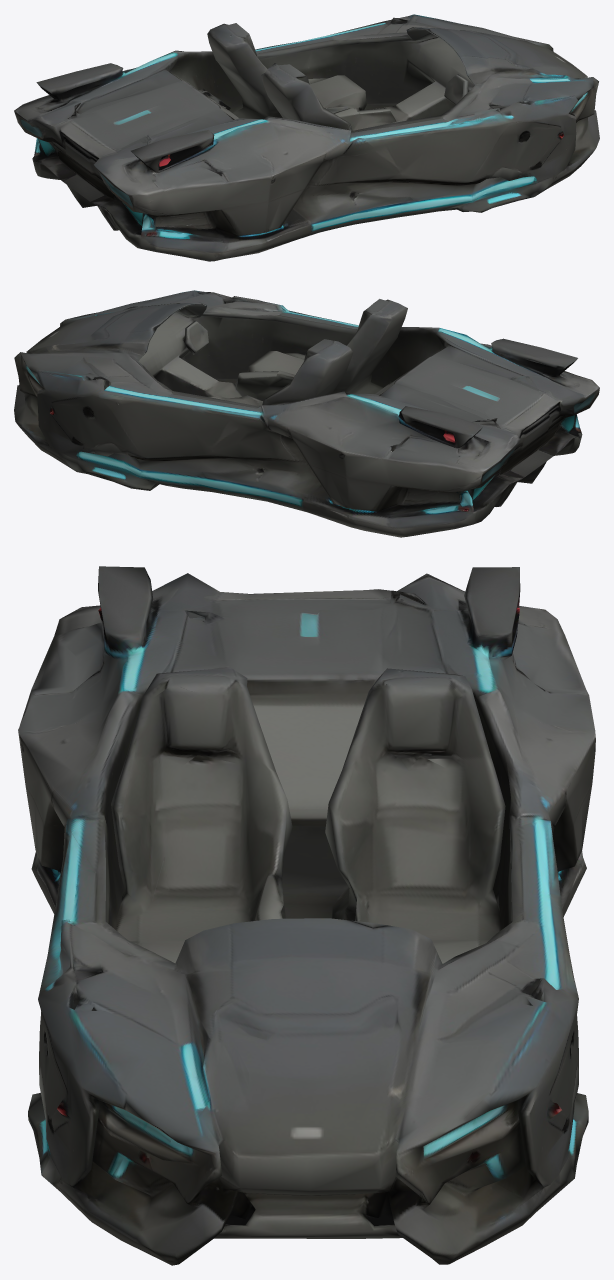
3 views of the same model, one above another, from view 1: azimuth 30°, elevation 25°; view 2: azimuth 150°, elevation 25°; view 3: azimuth 270°, elevation 25° (orthographic). The views are drawn at different scales.
Parts seen in each view (by area): view 1: tripo_node_6582a6da-e706-419f-9285-bc4d414077e0; view 2: tripo_node_6582a6da-e706-419f-9285-bc4d414077e0; view 3: tripo_node_6582a6da-e706-419f-9285-bc4d414077e0.
Boxes of the visible parts, x1,y1,x2,y2 form: tripo_node_6582a6da-e706-419f-9285-bc4d414077e0: (14,14,599,261); tripo_node_6582a6da-e706-419f-9285-bc4d414077e0: (14,290,599,537); tripo_node_6582a6da-e706-419f-9285-bc4d414077e0: (18,566,595,1265).
Bounding box in the file's own units: 4.32 × 1.2 × 2.11.
Materials: 1 (1 with a texture image).
